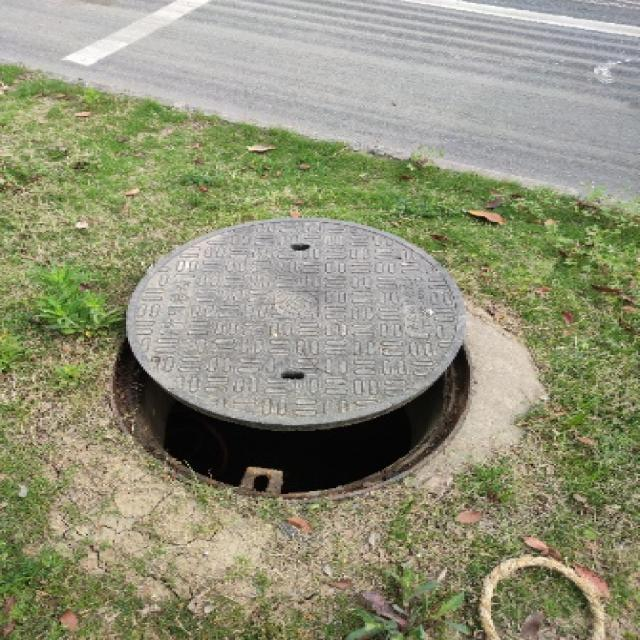Faulty: (69, 194, 508, 522)
